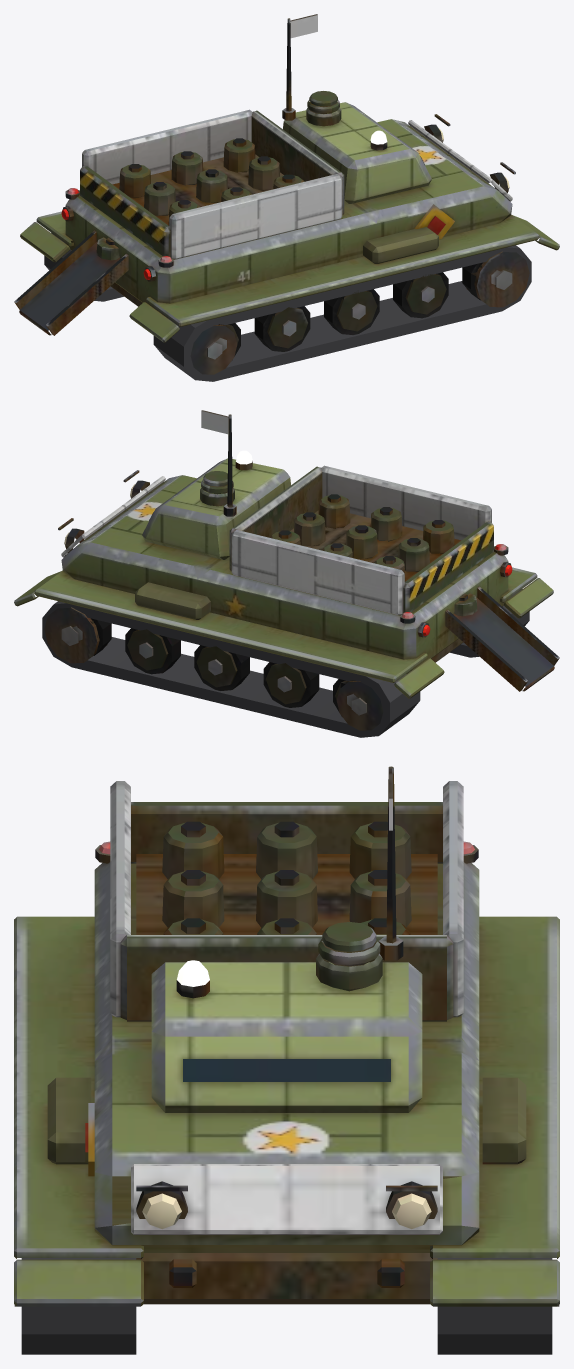
The model's file is mnly.soviet.glb.
3 views of the same model, one above another, from view 1: azimuth 30°, elevation 25°; view 2: azimuth 150°, elevation 25°; view 3: azimuth 270°, elevation 25° (orthographic). The views are drawn at different scales.
Visible parts, largest first — view 1: root_mesh; view 2: root_mesh, drop_mesh; view 3: root_mesh.
Boxes of the visible parts, <box> form: root_mesh: <box>14,14,559,381</box>; root_mesh: <box>14,410,559,737</box>; drop_mesh: <box>454,593,477,616</box>; root_mesh: <box>14,766,559,1354</box>.
Bounding box in the file's own units: 0.9659 × 0.503 × 0.525.
3 materials, 1 textured.
